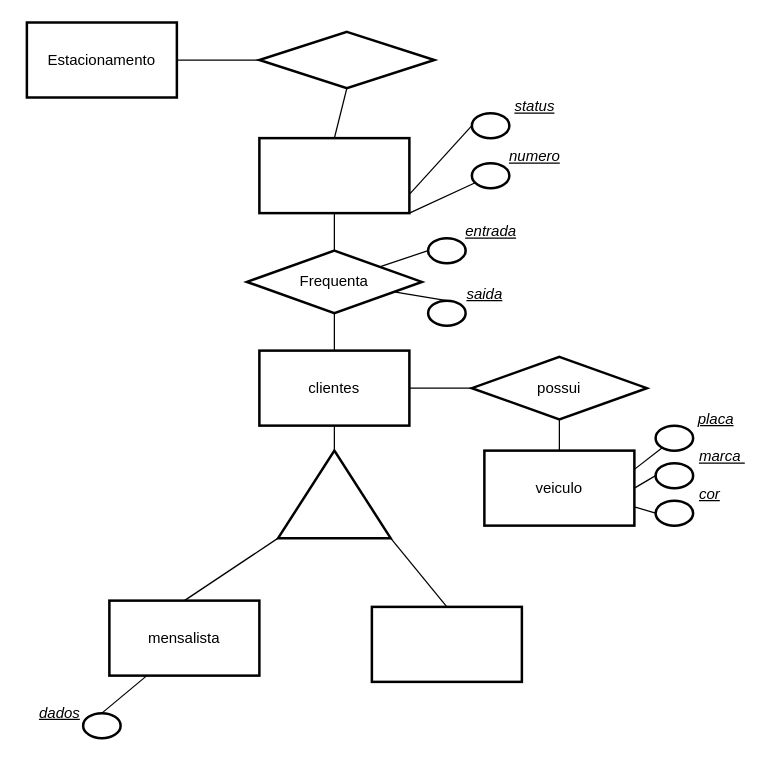
The diagram is 780 pixels wide and 761 high, and some of its shapes have lost their labels. The box of each missing label's shape, as (x1, y1, x2, y2) in pixels:
avulso: (370, 605, 522, 682)
Oferece: (258, 30, 435, 89)
vagas: (258, 136, 410, 214)
